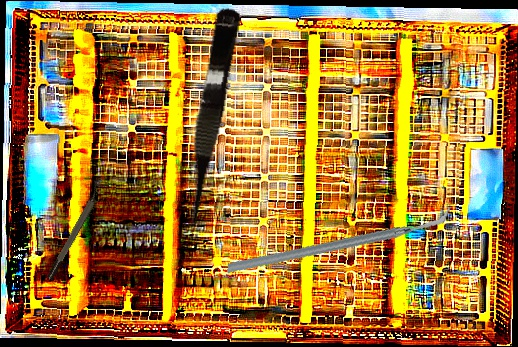Chopper: (226, 166, 451, 314)
Fixation Ring: (41, 176, 110, 282)
Micro Scissor: (173, 4, 243, 239)
